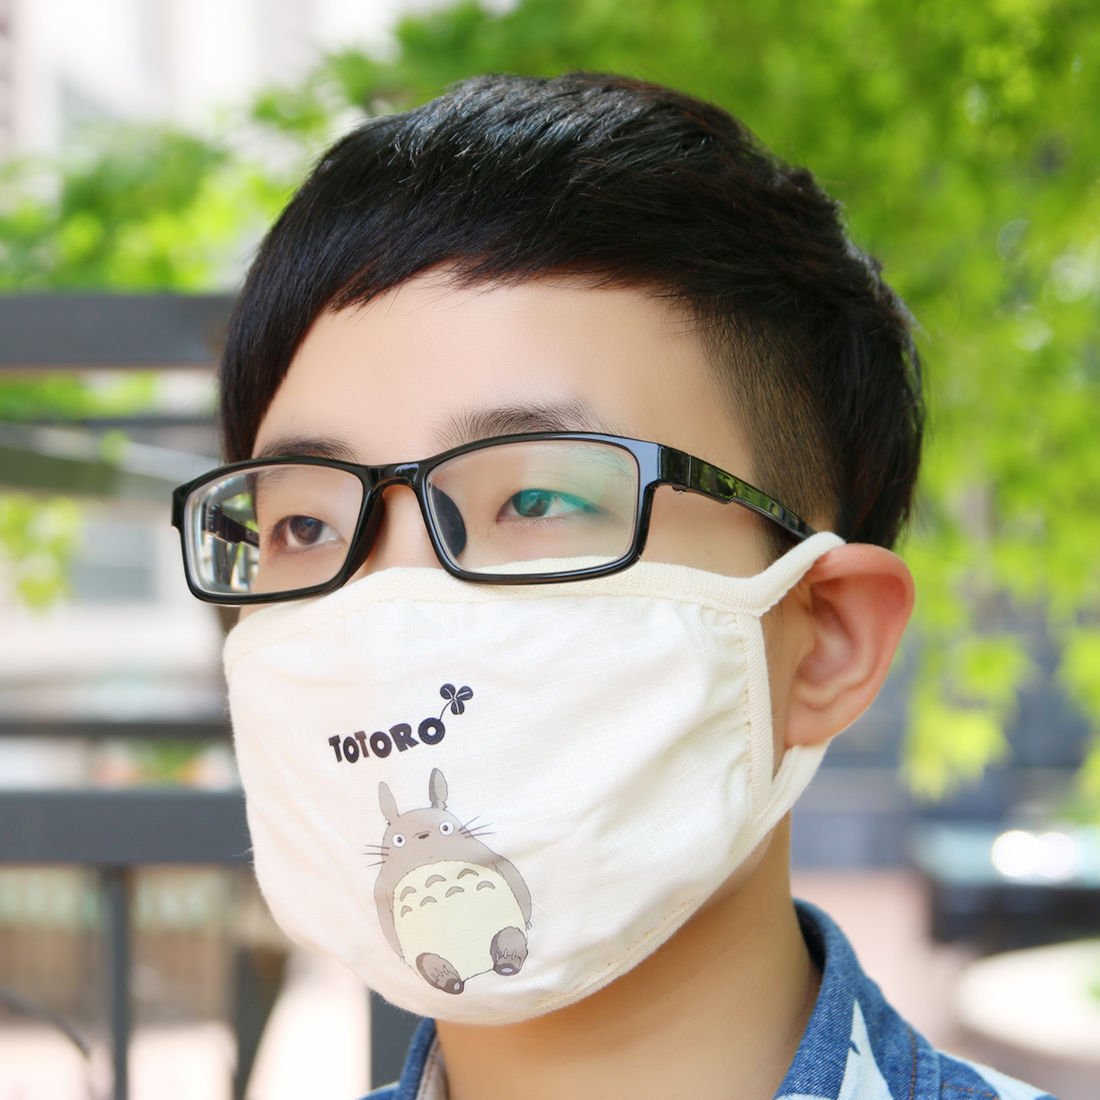face_mask: (227, 266, 756, 948)
